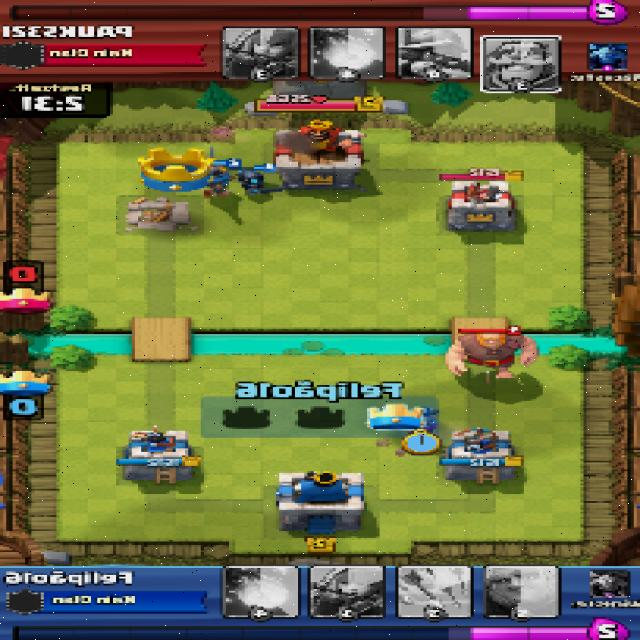Enemy-Giant: (444, 331, 543, 381)
Player-Knight: (200, 156, 233, 194)
Player-MiniPEKKA: (236, 166, 282, 194)
